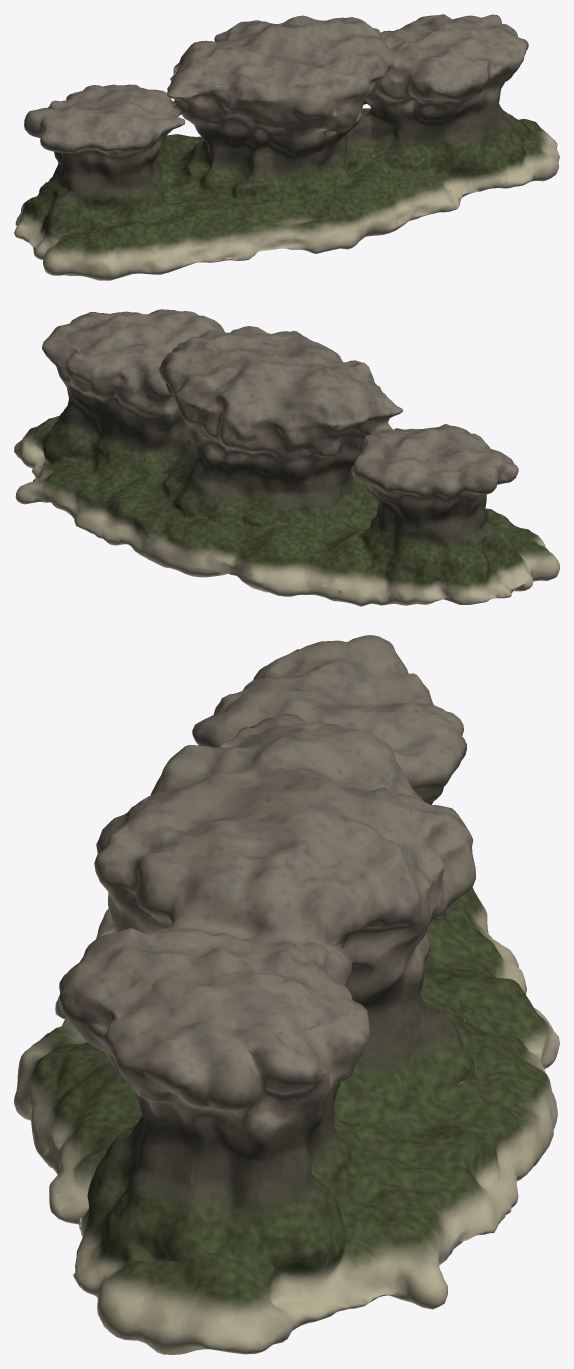
File: ArahaIsland.gltf
The picture shows the model from 3 angles, top to bottom: view 1: azimuth 30°, elevation 25°; view 2: azimuth 150°, elevation 25°; view 3: azimuth 270°, elevation 25°; orthographic projection. The views are drawn at different scales.
Parts seen in each view (by area): view 1: ArahaIsland; view 2: ArahaIsland; view 3: ArahaIsland.
Boxes of the visible parts, left/top/right/bottom form: ArahaIsland: left=14, top=14, right=559, bottom=280; ArahaIsland: left=14, top=309, right=559, bottom=606; ArahaIsland: left=14, top=635, right=559, bottom=1354.
Size of the model in its own units: 24.34 by 8.08 by 11.29.
Materials: 1 (1 with a texture image).
